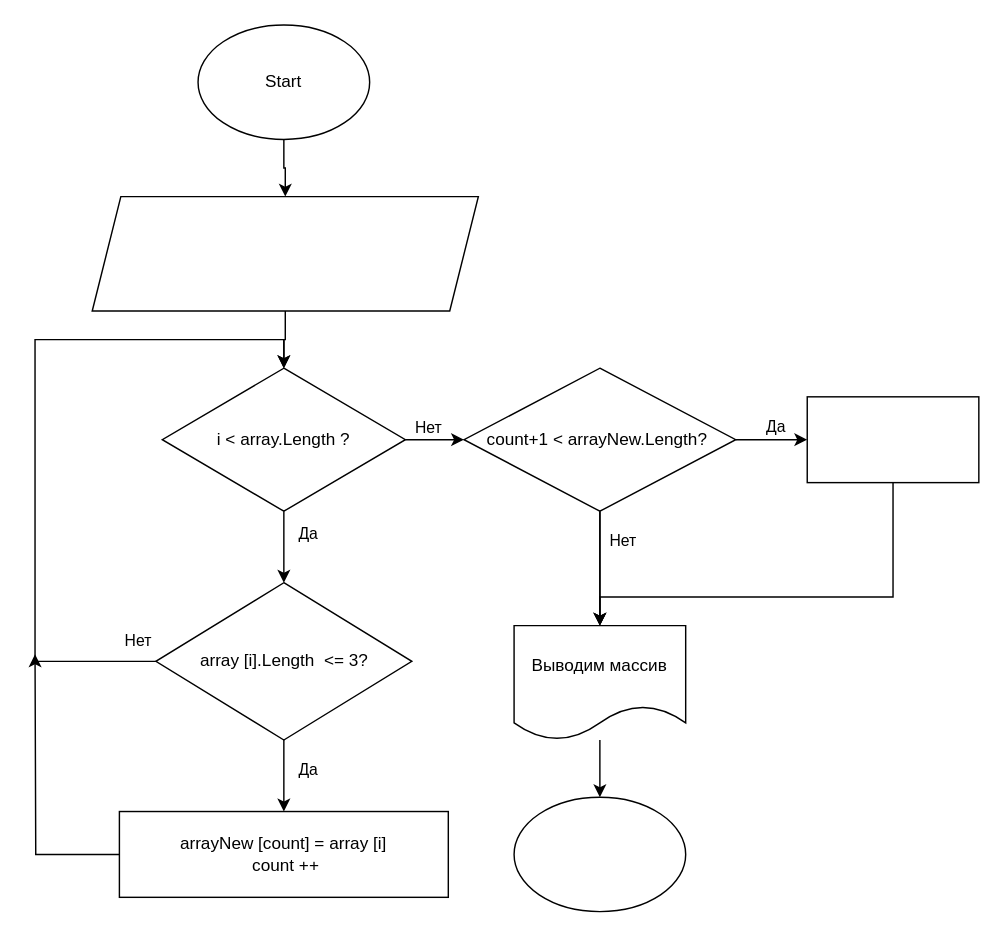
Some shapes in this 1004 by 937 pixel diagram are drawn without their labels. The shapes that lost their labels are listed below. From the top down, each one's centre as x and y in pixels, then its label:
At (284,253): "count = 0 i = 0 array [] = {Значения} arrayNew [array.Length] ={Пустой}".
At (892,439): "Уменьшаем размер массива до count".
At (599,854): "End".
